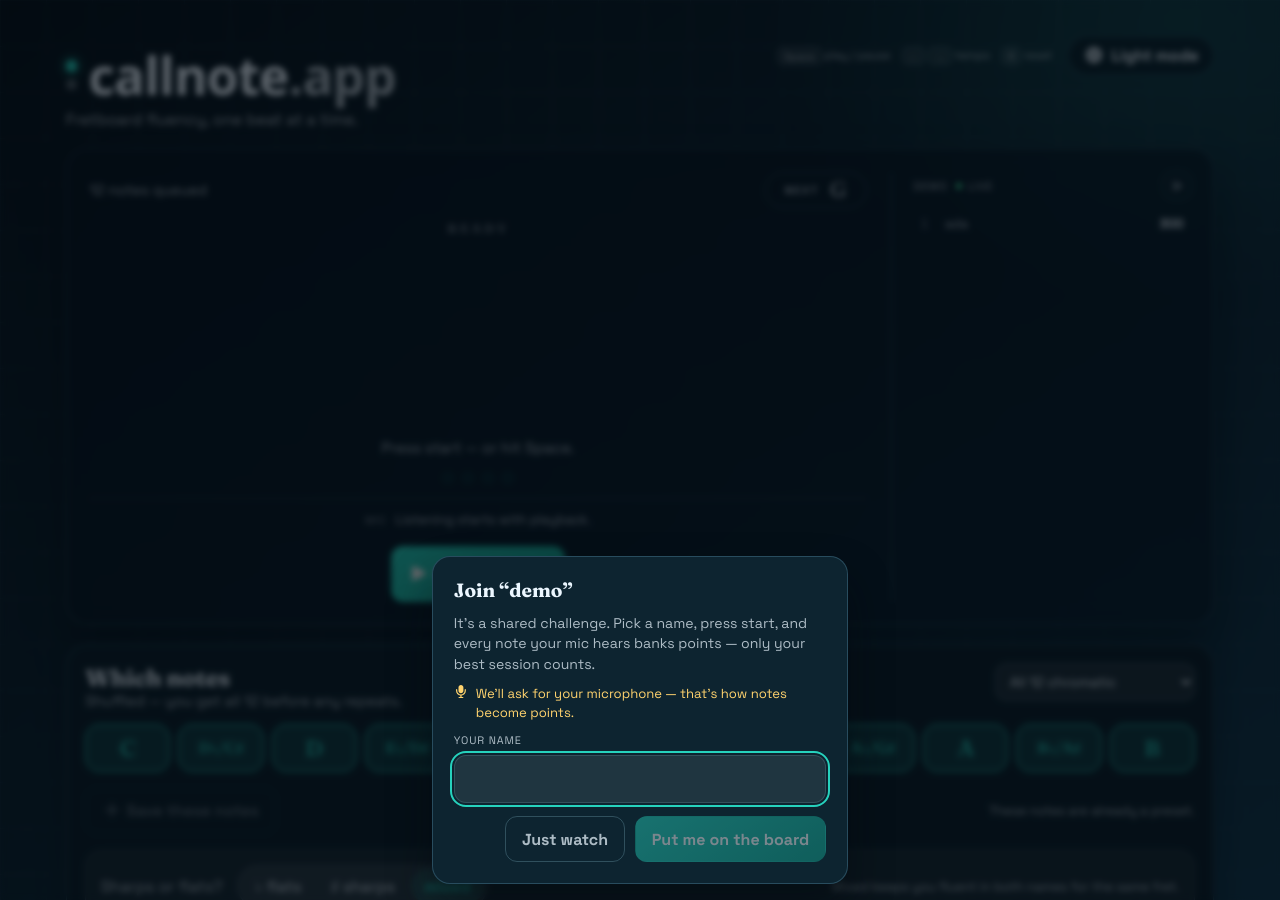
Test: arriving on a challenge › says so, and does not join, when the name is already somebody else’s
The image size is (1280, 900).
In the field with test id "nickname-input": x=640, y=779 [454, 755, 826, 803], type "ada"
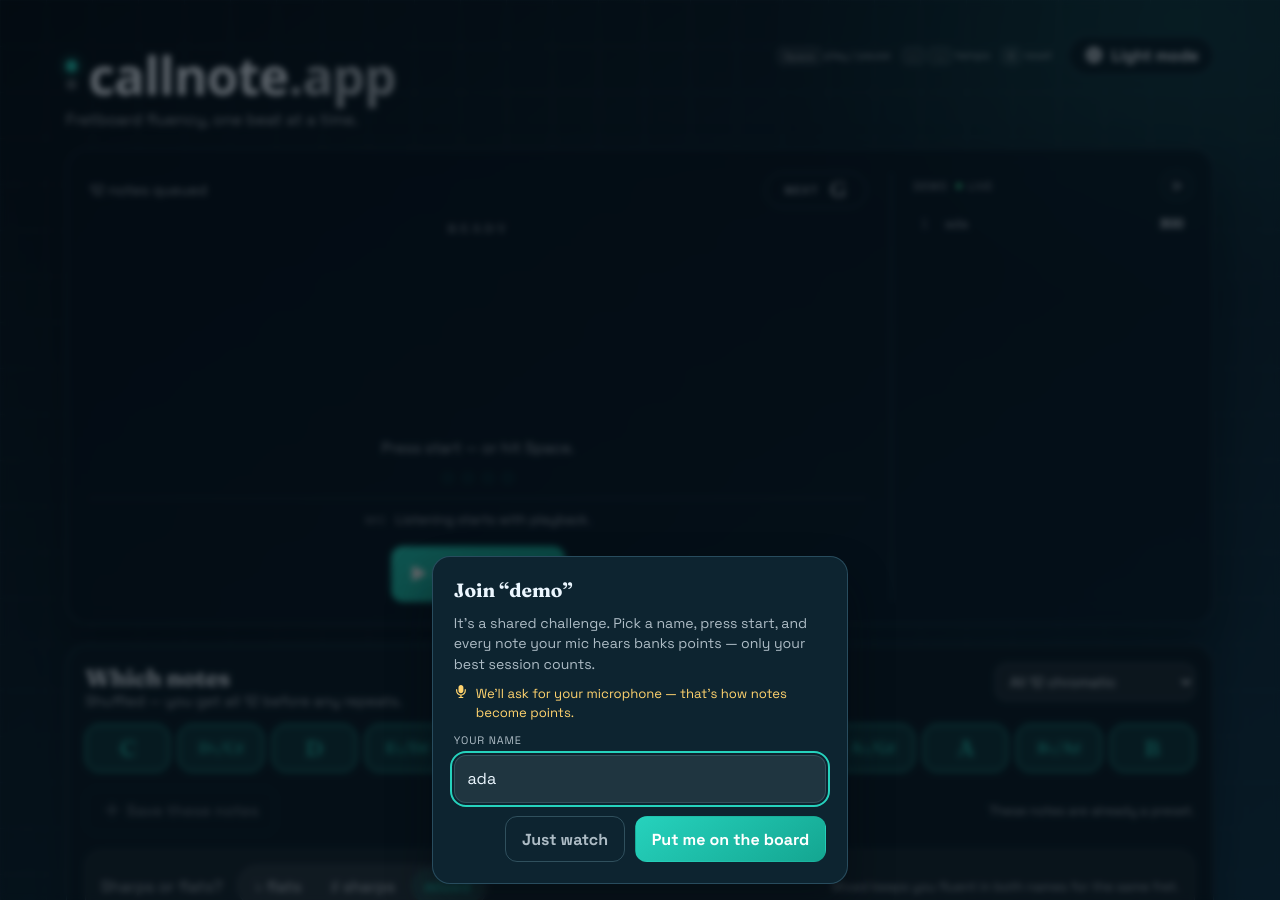
Click the button with test id "nickname-submit": x=730, y=839 [635, 816, 826, 862]
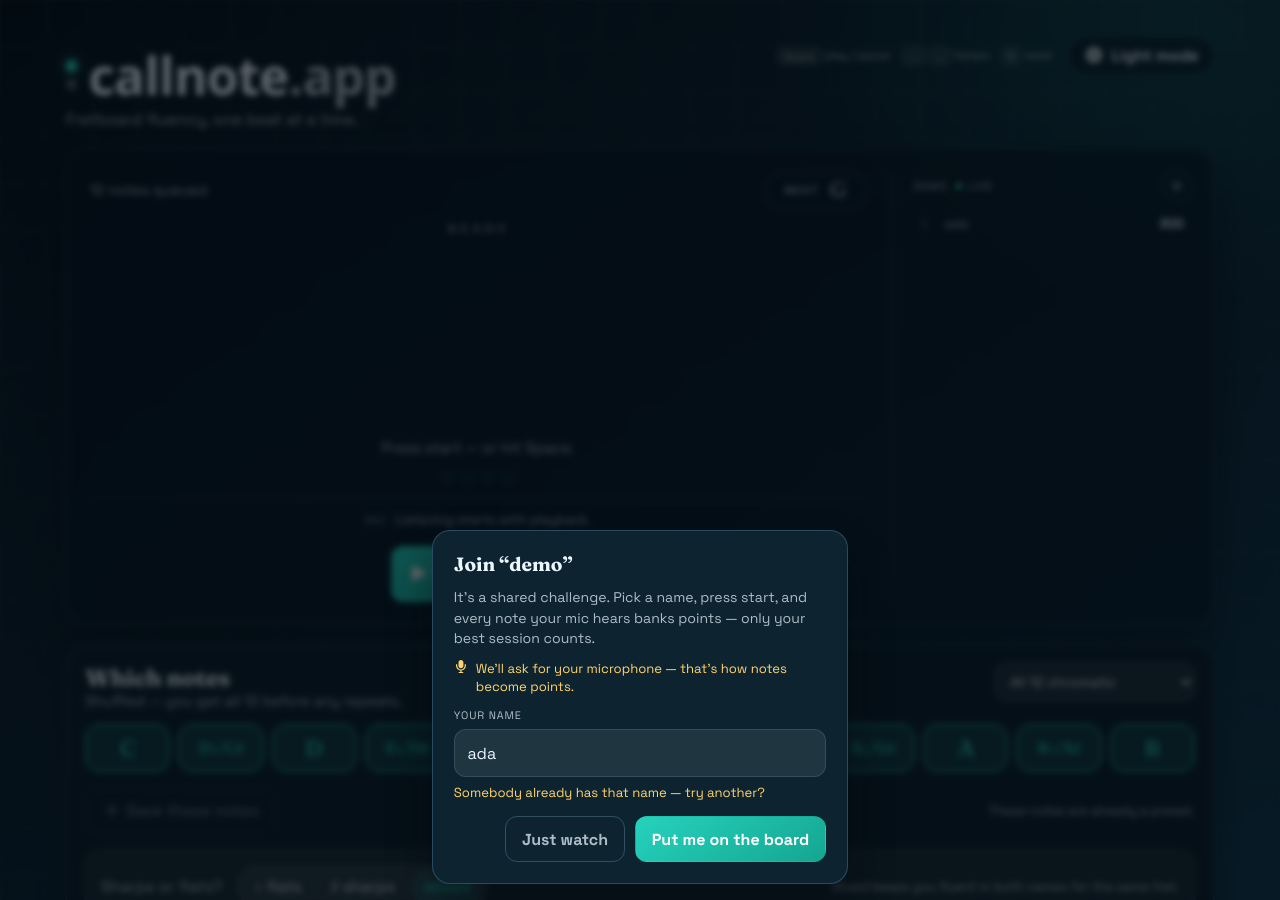
Result: the message with test id "nickname-error" shows "already has that name" at [454, 784, 765, 801]
